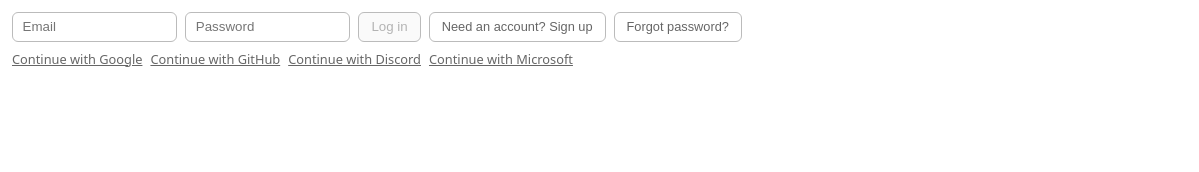
Test case: AuthPanel › shows an error message when login is rejected
Type "ada@example.com" into the field with placeholder "Email".
click(95, 27); type("ada@example.com")  # box [12,12,177,42]
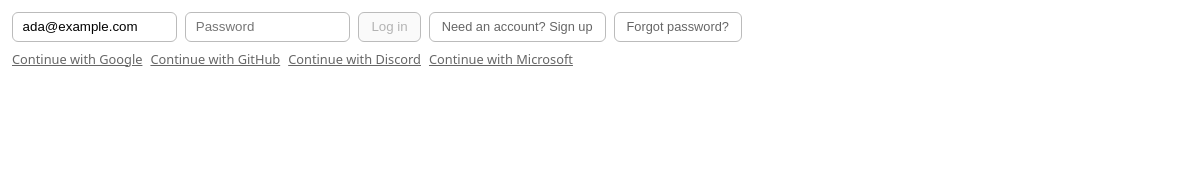
Type "wrong-password" into the password field with placeholder "Password".
click(268, 27); type("wrong-password")  # box [185,12,350,42]
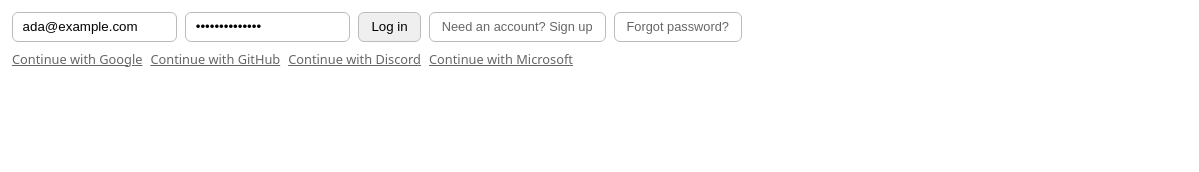
Click the button "Log in".
click(390, 27)  # box [358,12,421,42]
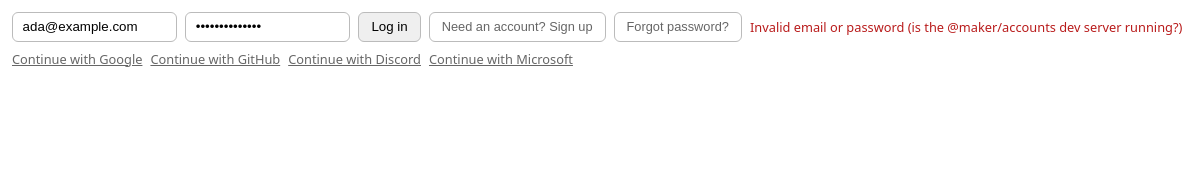
Result: the message shows "Invalid email or password" at [750,18,1182,36]
